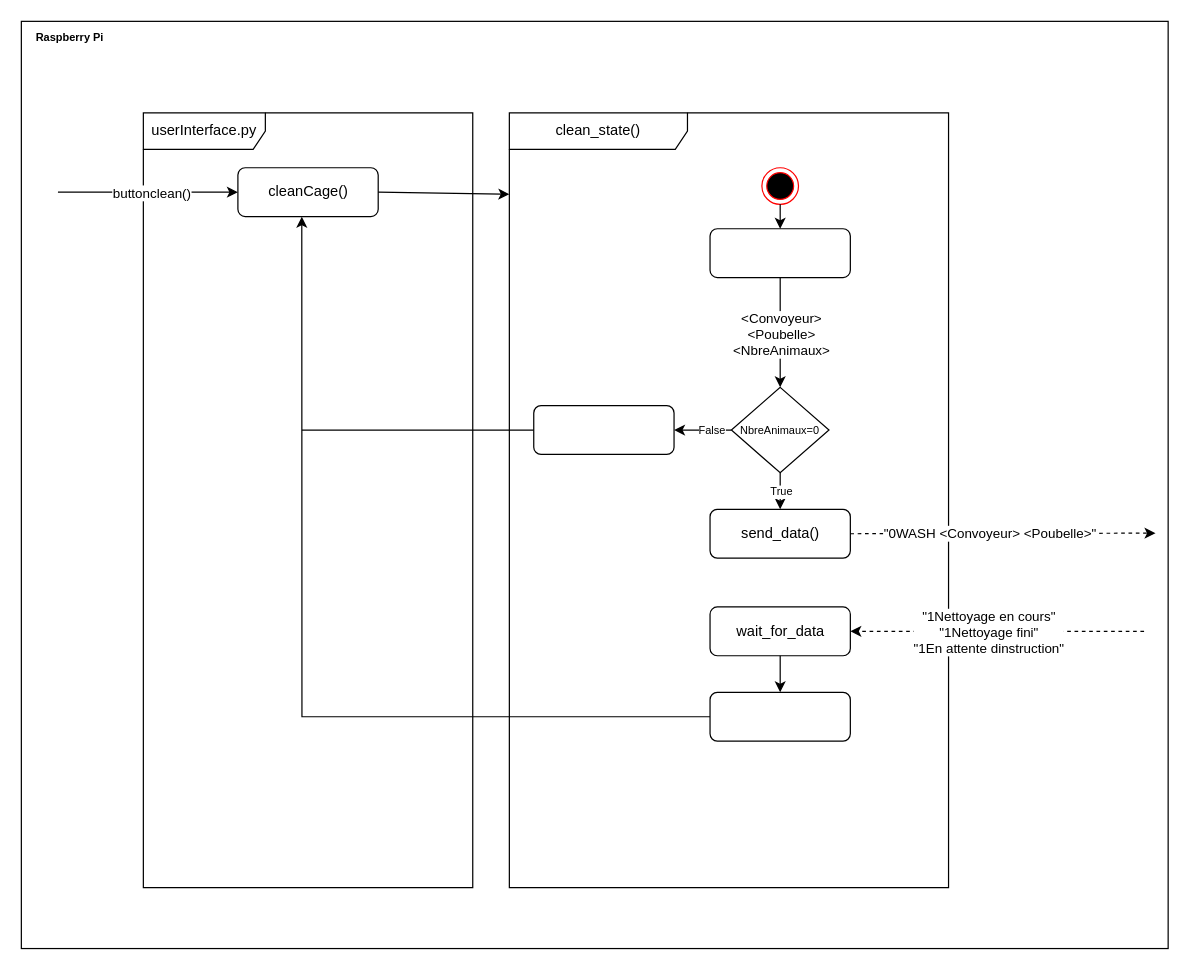
Image size: 1190x970. Some labels were removed from this diagram. The centre of each missing label's shape, as x and y in pixels:
cam.Scan(): pixel 779 253
return False, <Convoyeur>: pixel 603 429
return True, <Convoyeur>: pixel 779 716
